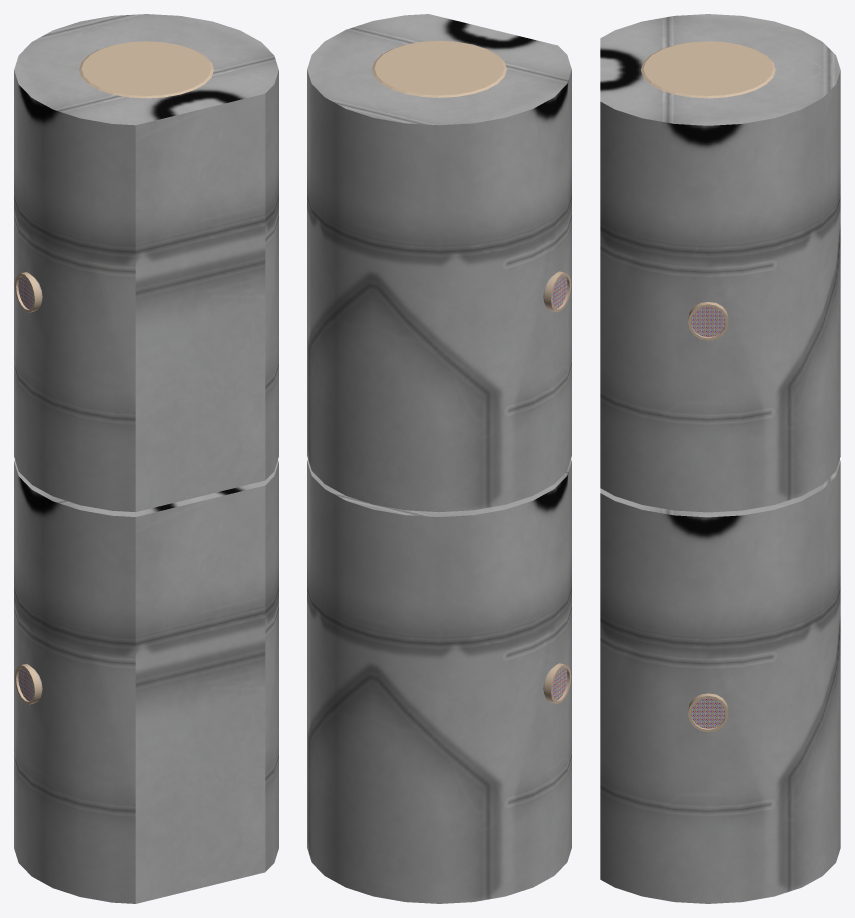
The model's file is nashira_crew_s1_2_interior.obj.
3 views of the same model, side by side, from view 1: azimuth 30°, elevation 25°; view 2: azimuth 150°, elevation 25°; view 3: azimuth 270°, elevation 25° (orthographic).
Parts seen in each view (by area): view 1: i1, im1, iw1; view 2: i1, im1, iw1; view 3: i1, im1, iw1.
Part boxes in pixels (bbox=[...]): i1: bbox=[14, 14, 278, 903]; im1: bbox=[14, 41, 213, 704]; iw1: bbox=[18, 276, 33, 700]; i1: bbox=[307, 14, 571, 903]; im1: bbox=[372, 40, 571, 703]; iw1: bbox=[552, 275, 567, 700]; i1: bbox=[600, 14, 840, 903]; im1: bbox=[641, 41, 775, 732]; iw1: bbox=[691, 306, 725, 728].
Bounding box in the file's own units: 1.3 × 3.99 × 1.11.
